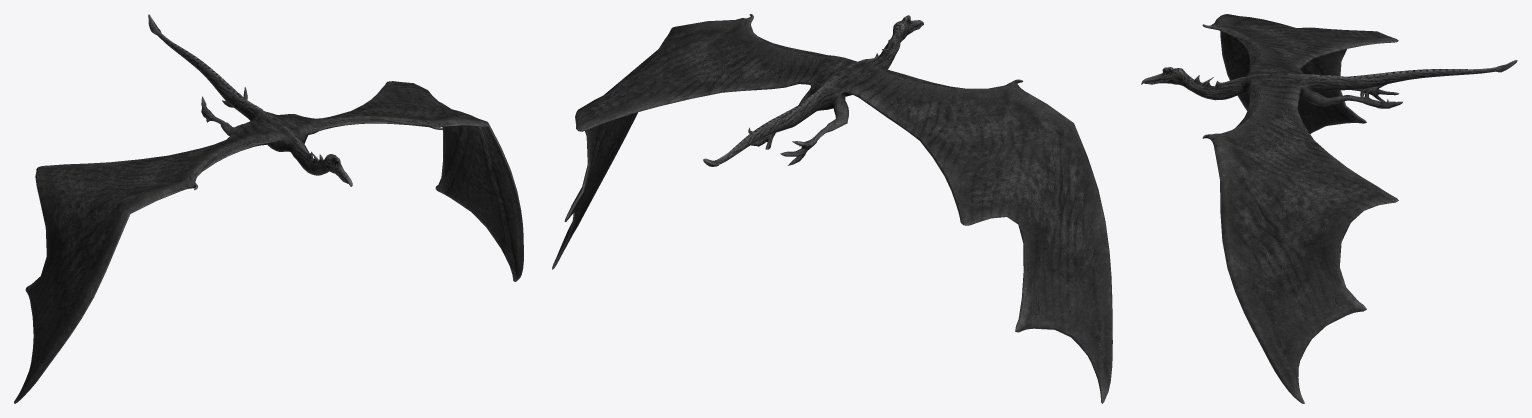
File: Fellbeast_Animate_Flying_36.obj
The picture shows the model from 3 angles, left to right: view 1: azimuth 30°, elevation 25°; view 2: azimuth 150°, elevation 25°; view 3: azimuth 270°, elevation 25°; orthographic projection. The views are drawn at different scales.
Parts seen in each view (by area): view 1: Fellbeast; view 2: Fellbeast; view 3: Fellbeast.
Boxes of the visible parts, bbox=[...] form: Fellbeast: bbox=[14, 14, 523, 403]; Fellbeast: bbox=[552, 14, 1112, 403]; Fellbeast: bbox=[1141, 14, 1517, 403].
Bounding box in the file's own units: 6.3 × 2.94 × 4.38.
